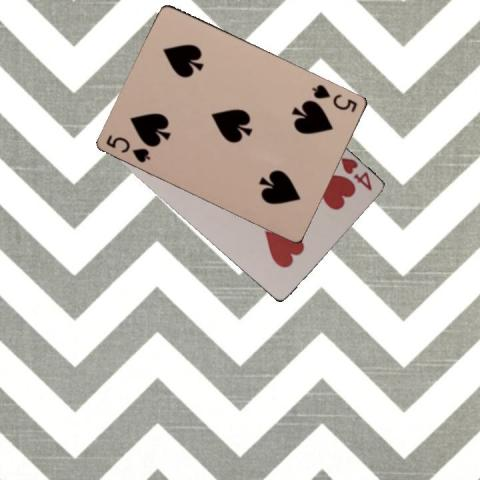4h: (337, 154, 373, 193)
5s: (308, 81, 359, 114), (103, 131, 152, 165)
